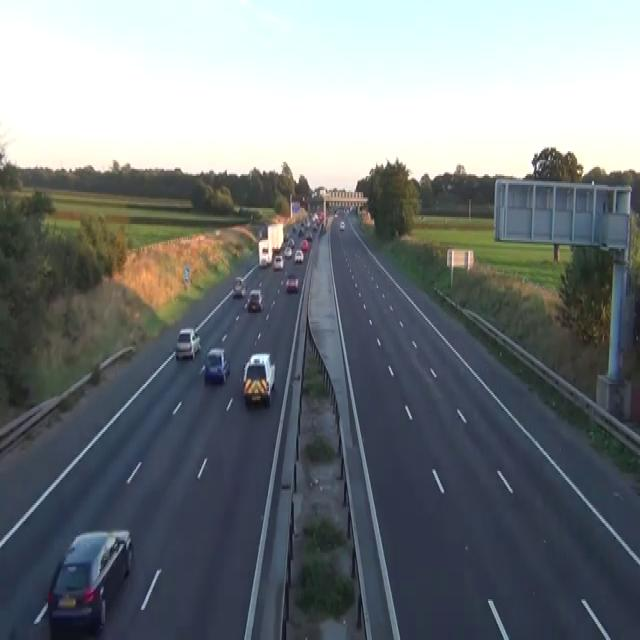Car: (47, 528, 133, 631), (242, 352, 275, 407), (203, 347, 230, 384), (175, 327, 200, 361), (245, 288, 263, 311), (232, 275, 246, 297), (285, 274, 299, 292), (273, 254, 283, 270), (293, 249, 303, 263), (259, 252, 268, 266), (284, 245, 292, 258), (300, 238, 308, 251), (288, 236, 295, 249), (319, 222, 326, 235), (339, 220, 345, 230), (318, 210, 324, 220), (298, 226, 304, 236), (306, 231, 312, 240), (312, 222, 318, 230), (284, 233, 289, 242), (291, 226, 296, 233), (334, 211, 338, 217)
Truck: (257, 220, 284, 266), (258, 238, 272, 267)
